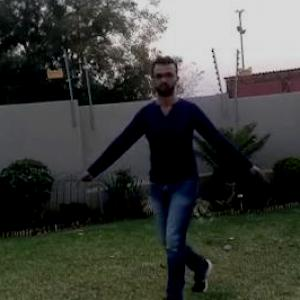land: (85, 54, 265, 299)
